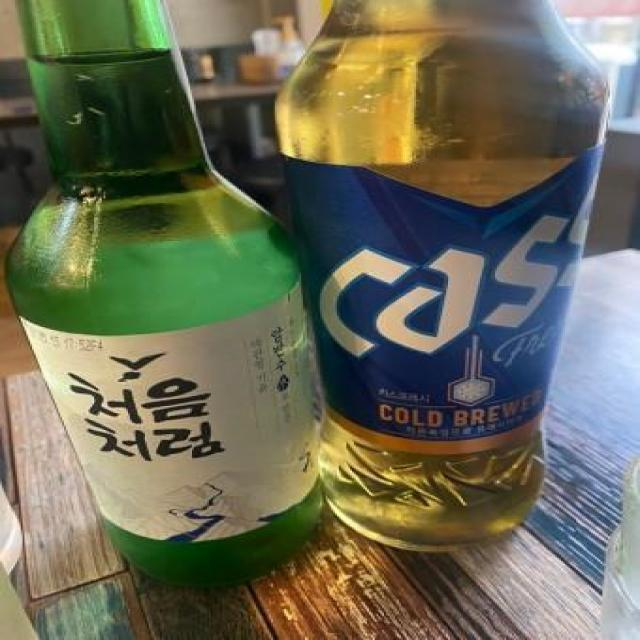beer-bottle: (270, 0, 618, 564)
soju-bottle: (0, 1, 328, 590)
